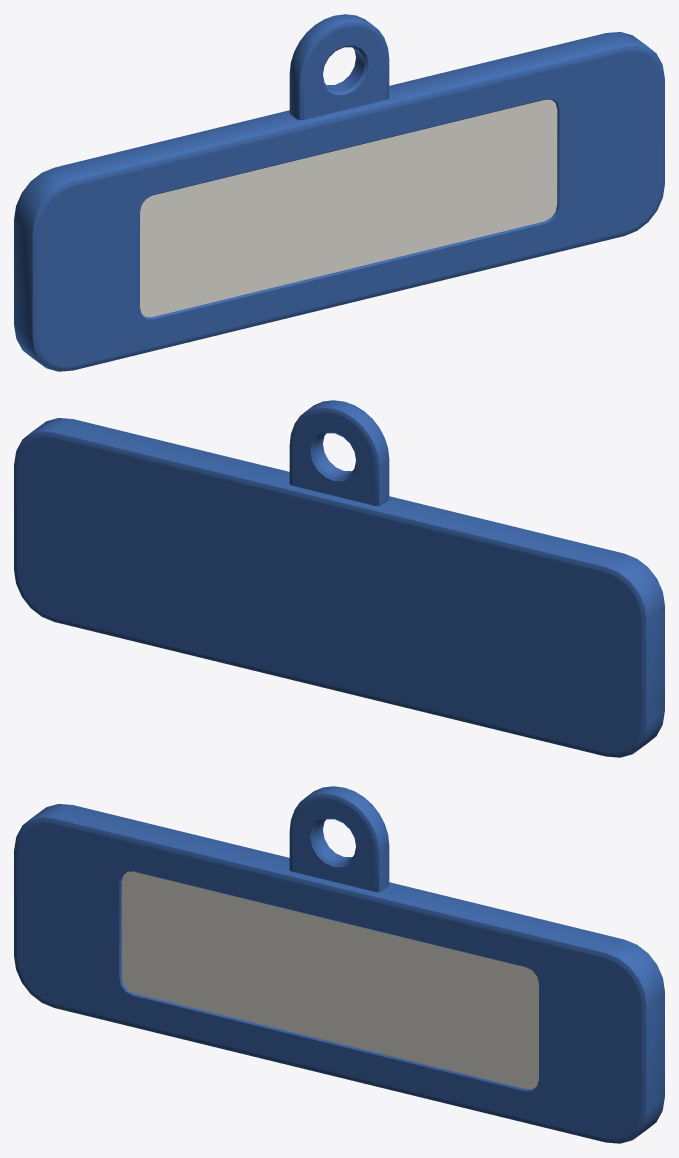
File: Kit_KeyTag_Long_Blue.fbx
The picture shows the model from 3 angles, top to bottom: view 1: azimuth 30°, elevation 25°; view 2: azimuth 150°, elevation 25°; view 3: azimuth 330°, elevation 25°; orthographic projection.
Parts seen in each view (by area): view 1: Kit_KeyTag_Long_LOD0; view 2: Kit_KeyTag_Long_LOD0; view 3: Kit_KeyTag_Long_LOD0.
Boxes of the visible parts, left/top/right/bottom form: Kit_KeyTag_Long_LOD0: left=14, top=14, right=664, bottom=371; Kit_KeyTag_Long_LOD0: left=14, top=400, right=664, bottom=757; Kit_KeyTag_Long_LOD0: left=14, top=786, right=664, bottom=1143.
Size of what is drawn, in the model's own units: 0.076 by 0.032 by 0.0042.
